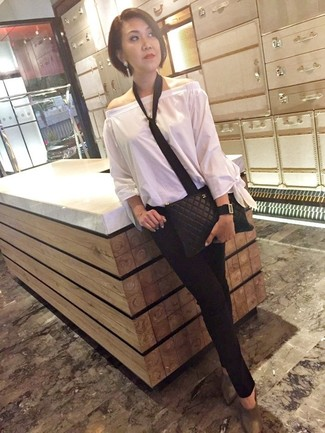tie: (127, 74, 202, 197)
